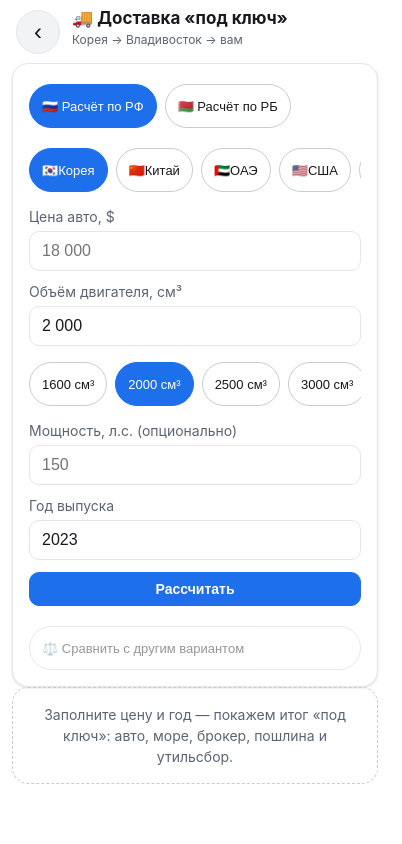
it: Calc: страна отправки (GEO-V1 §2–§3) › маршрут и окно фрейта из DeliveryOut — под итогом расчёта
Click the button "🇦🇪 ОАЭ" at (236, 170), box [201,148,271,192]
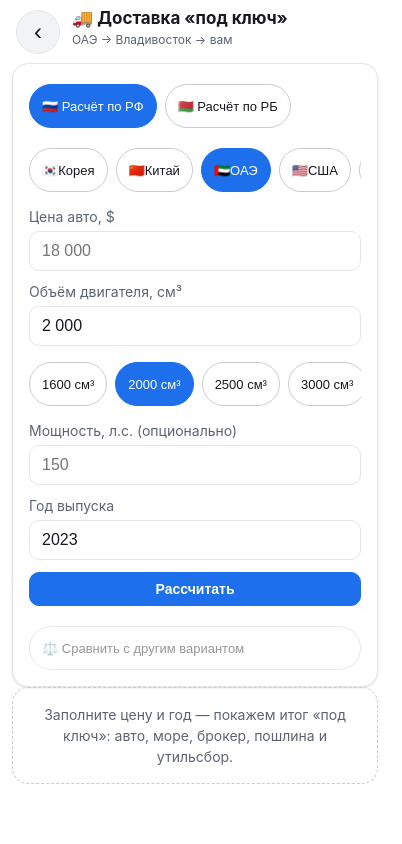
Type "18000" into the field with placeholder "18 000" at (195, 251), box [29,231,361,271]
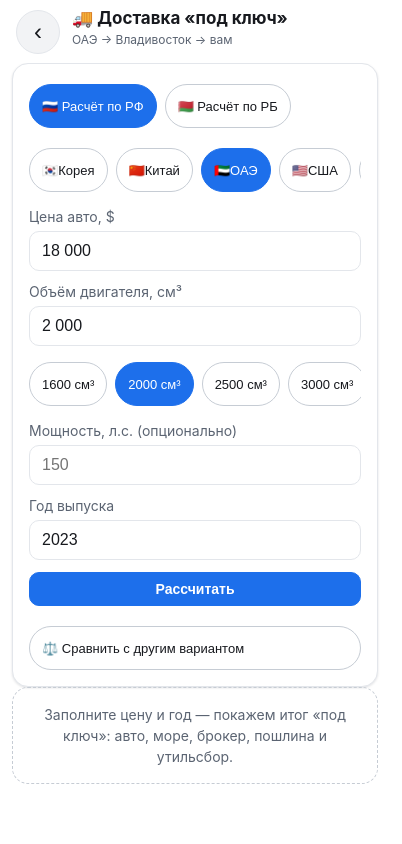
Click the button "Рассчитать" at (195, 589), box [29,572,361,606]
(page scrolled)
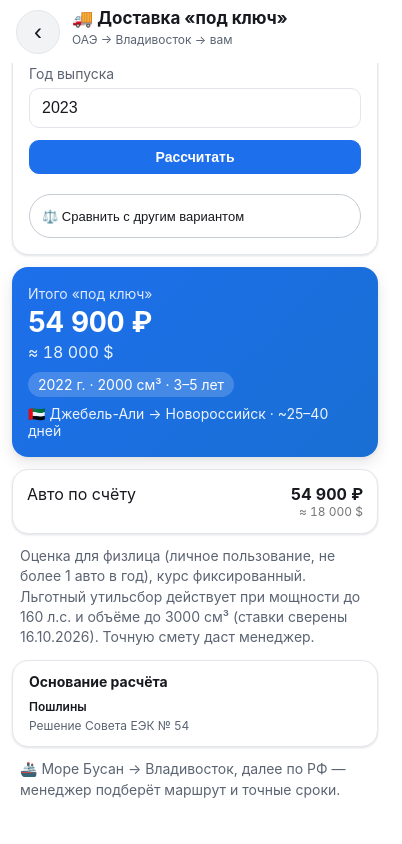
Check: the text "🇦🇪 Джебель-Али → Новороссийск · ~25–40 дней" is shown, box [28,405,362,439]
